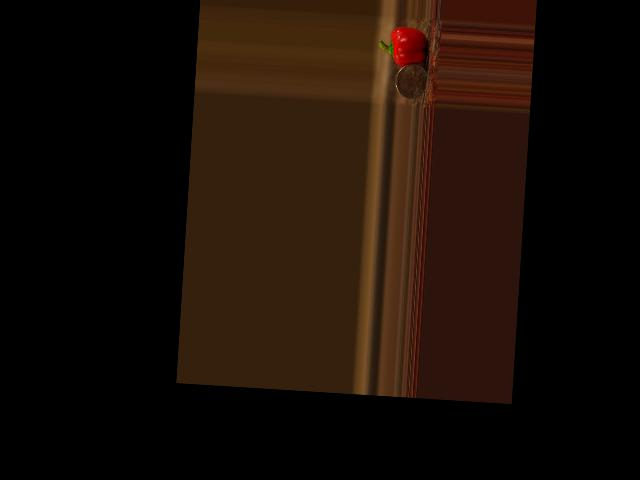bell_pepper: (377, 25, 430, 66)
